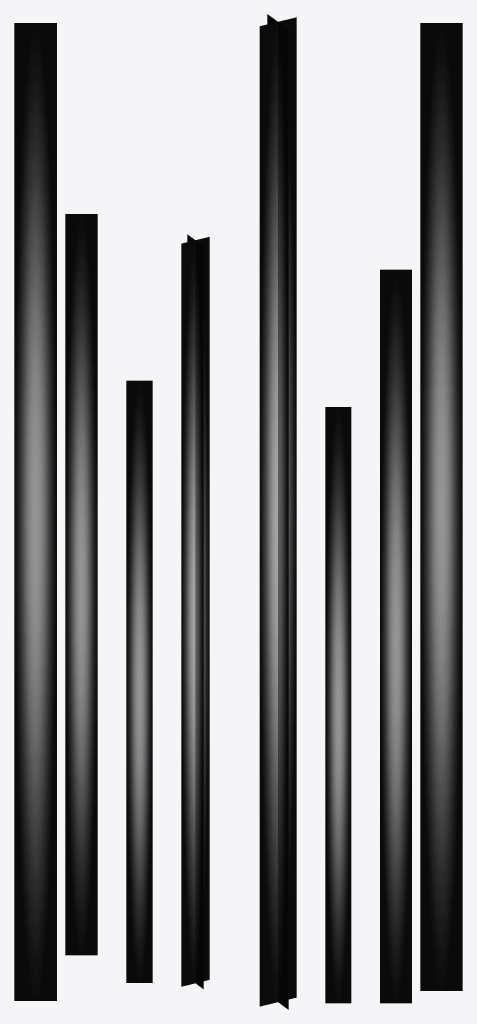
File: vfx_kurp_0212.dae
3 views of the same model, side by side, from view 1: azimuth 90°, elevation 25°; view 2: azimuth 210°, elevation 25°; view 3: azimuth 270°, elevation 25° (orthographic).
Parts seen in each view (by area): view 1: vfx_kurp_0212; view 2: vfx_kurp_0212; view 3: vfx_kurp_0212.
Boxes of the visible parts, bbox=[...] form: vfx_kurp_0212: bbox=[14, 23, 152, 1000]; vfx_kurp_0212: bbox=[181, 14, 296, 1009]; vfx_kurp_0212: bbox=[325, 23, 462, 1003].
Bounding box in the file's own units: 4.02 × 5.25 × 40.89.
1 material, 1 textured.
